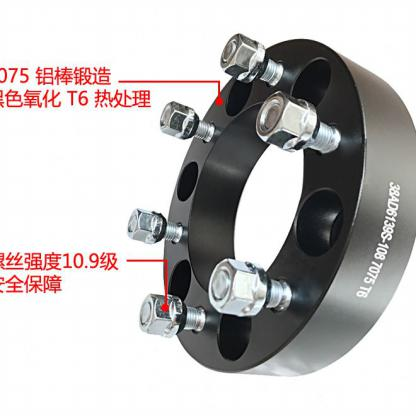FOD: (159, 30, 415, 384)
